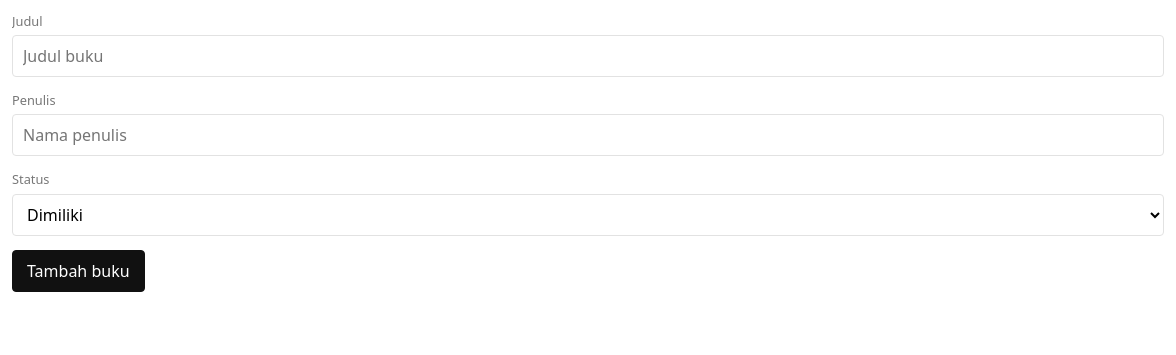
Test: BookForm › menampilkan pesan error saat kolom kosong
Click the button "Tambah buku".
click(78, 271)  # box top-left (12, 250), bottom-right (145, 292)
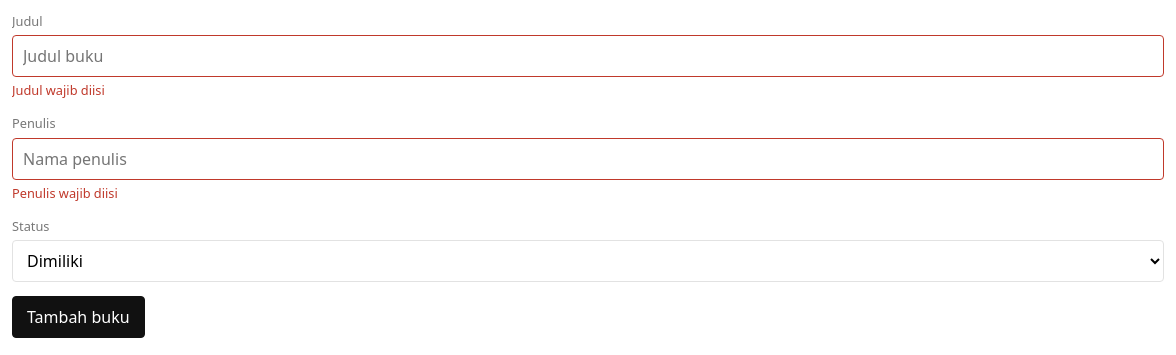
expect the text "Judul wajib diisi" is shown: met, box top-left (12, 81), bottom-right (105, 99)
expect the text "Penulis wajib diisi" is shown: met, box top-left (12, 184), bottom-right (118, 202)
